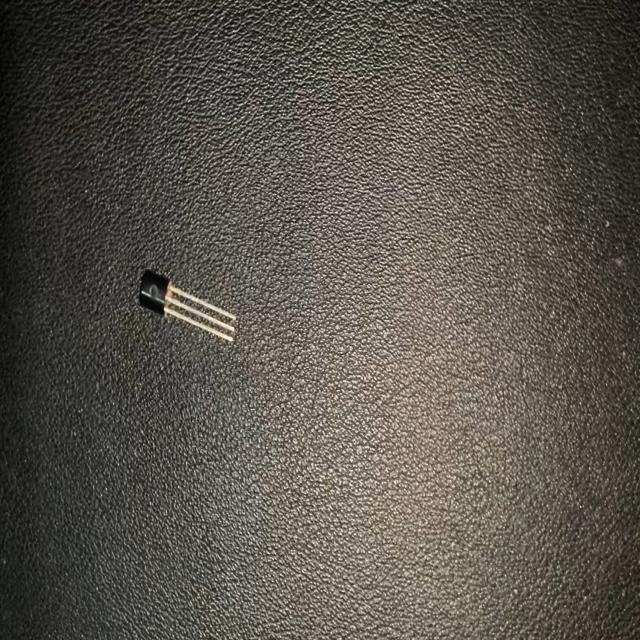BJT: (136, 259, 238, 352)
